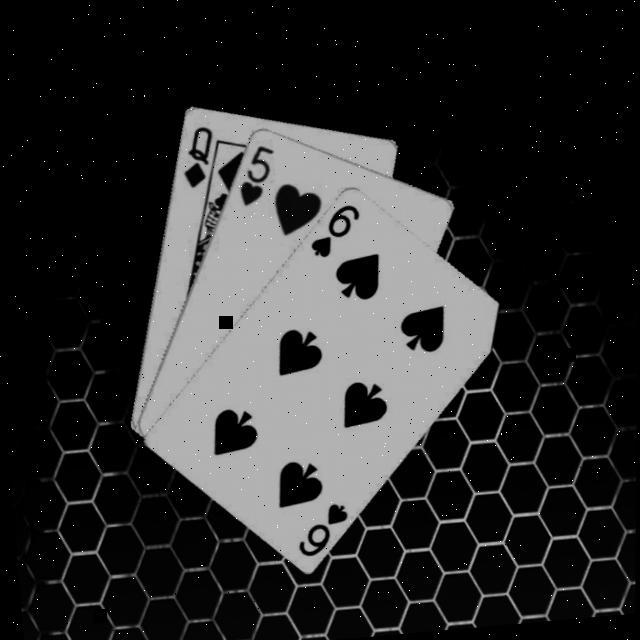5H: (233, 140, 282, 210)
6S: (293, 498, 357, 560), (304, 200, 368, 261)
QD: (177, 122, 220, 192)
